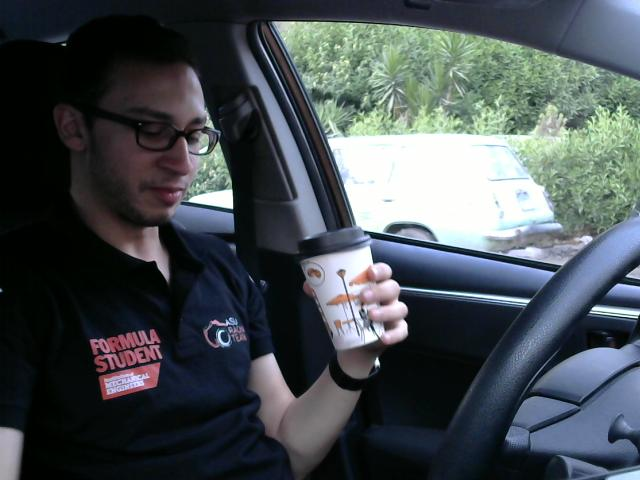Drinking: (295, 226, 388, 358)
